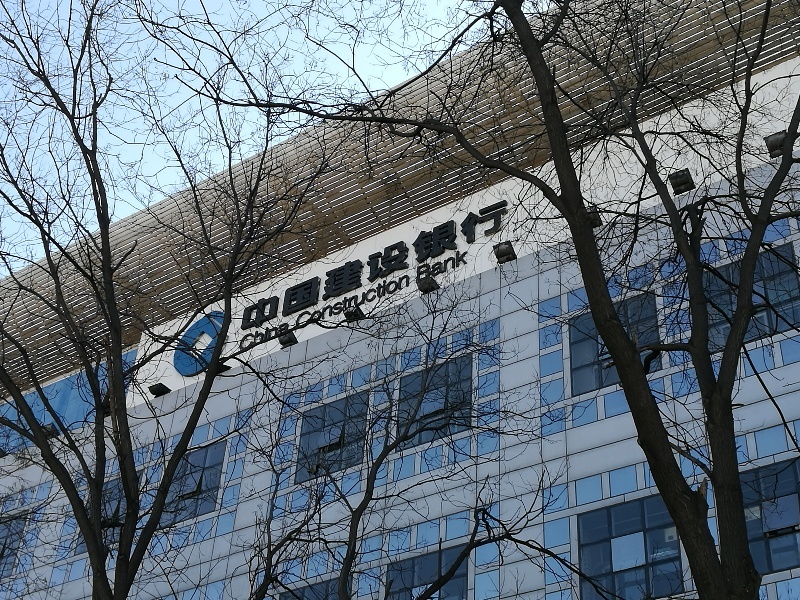text: (241, 194, 256, 335), (257, 194, 272, 335), (273, 194, 288, 335), (289, 194, 304, 335), (305, 194, 320, 335), (321, 194, 336, 335), (337, 194, 352, 335), (353, 194, 368, 335), (369, 194, 384, 335), (385, 194, 400, 335), (401, 194, 416, 335), (417, 194, 432, 335), (433, 194, 448, 335), (449, 194, 464, 335), (465, 194, 480, 335), (481, 194, 496, 335), (497, 194, 512, 335), (233, 194, 240, 335), (305, 271, 320, 331), (321, 271, 336, 331), (337, 271, 352, 331), (353, 271, 368, 331), (369, 271, 384, 331), (385, 271, 400, 331), (401, 271, 414, 331), (293, 271, 304, 331), (417, 247, 432, 284), (433, 247, 448, 284), (449, 247, 464, 284), (241, 318, 256, 353), (257, 318, 272, 353), (273, 318, 288, 353), (465, 247, 473, 284), (235, 318, 240, 353), (412, 247, 416, 284), (513, 194, 514, 335), (289, 318, 292, 353)
